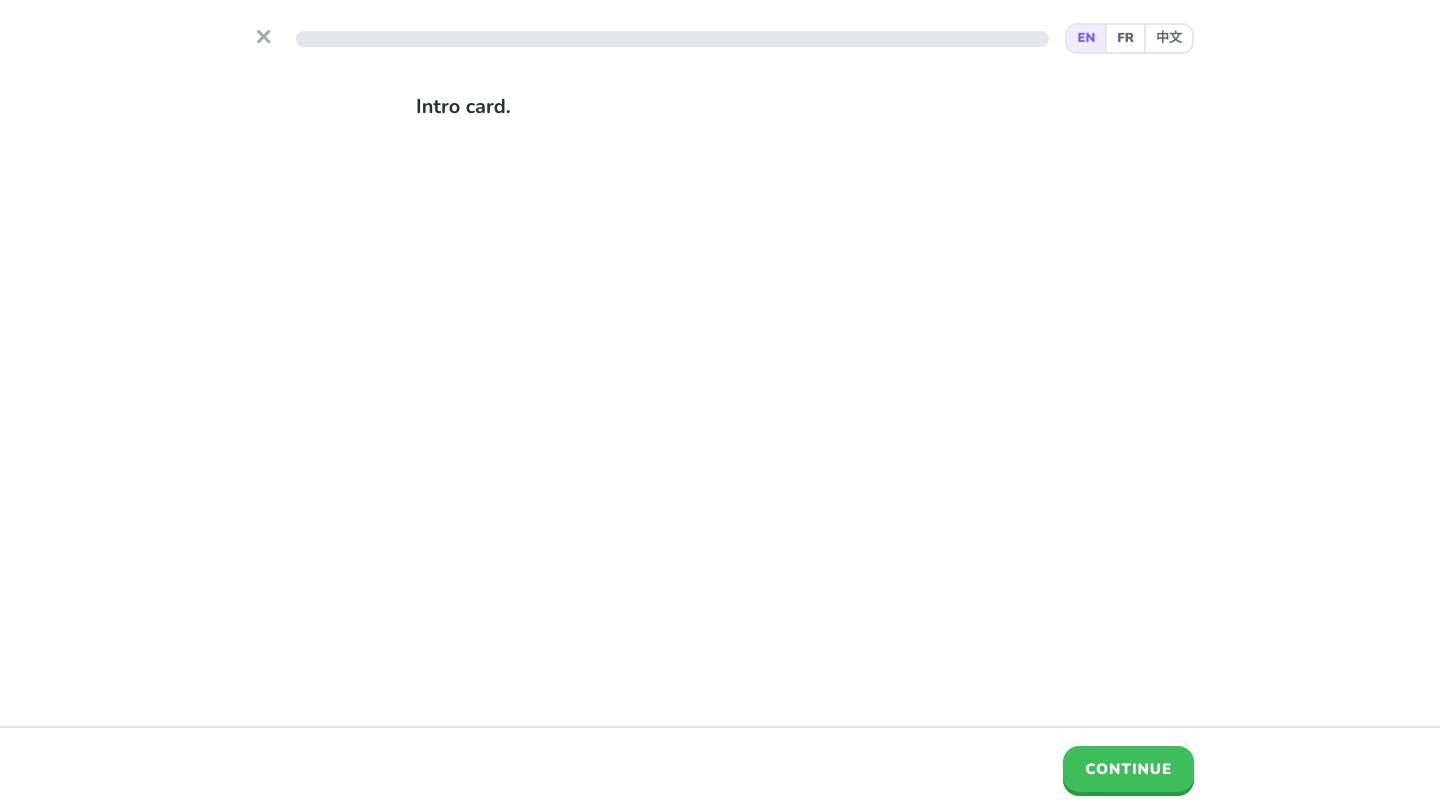
Test case: going back inside a lesson › an answered question is read-only on Back, with its explanation
What coordinates should you click on to do the following:
click the button "Continue"
I would click on:
 (1129, 769)
Its box is [1063,746,1194,792].
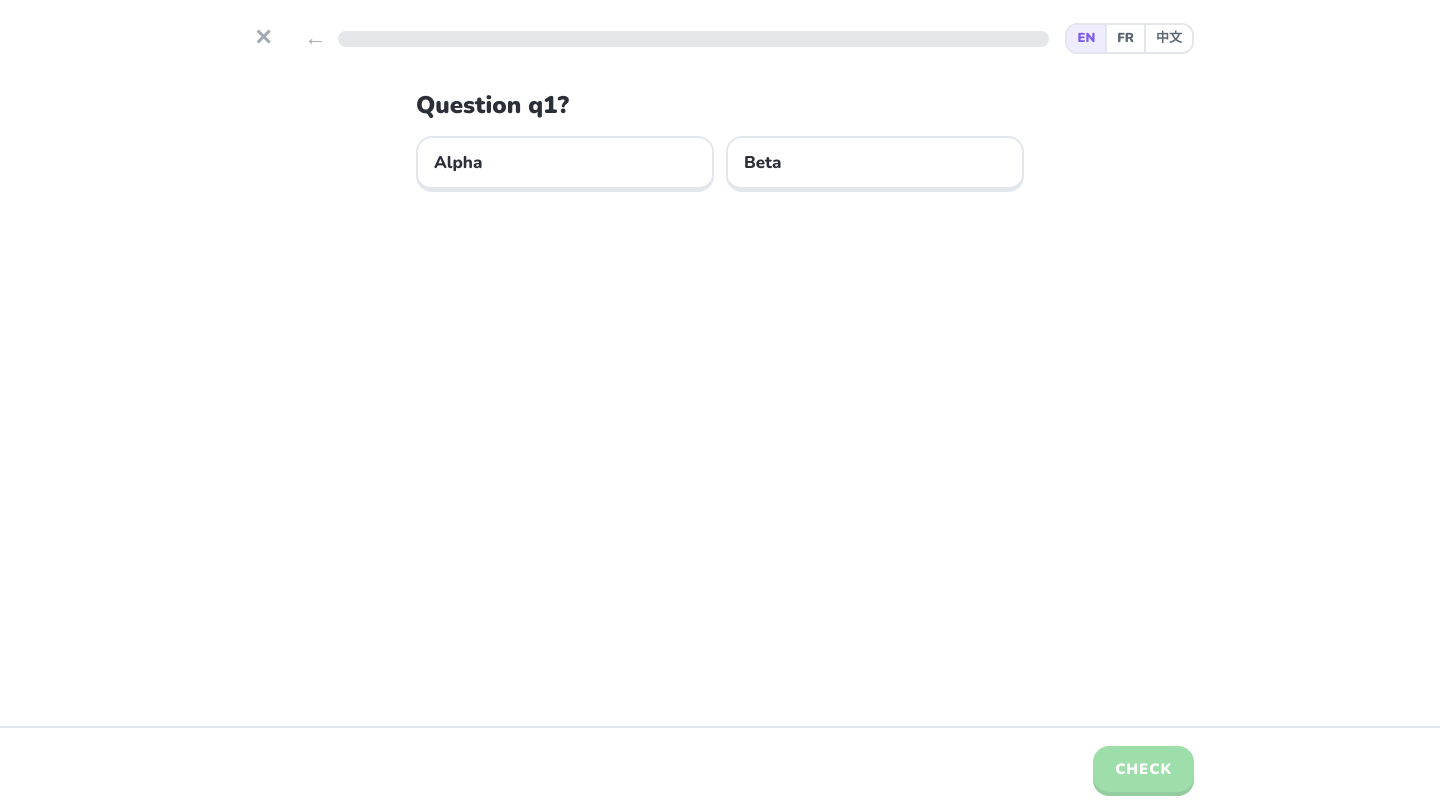
What coordinates should you click on to do the following:
click the button "Alpha"
I would click on:
 (458, 162)
Its box is [416,136,714,192].
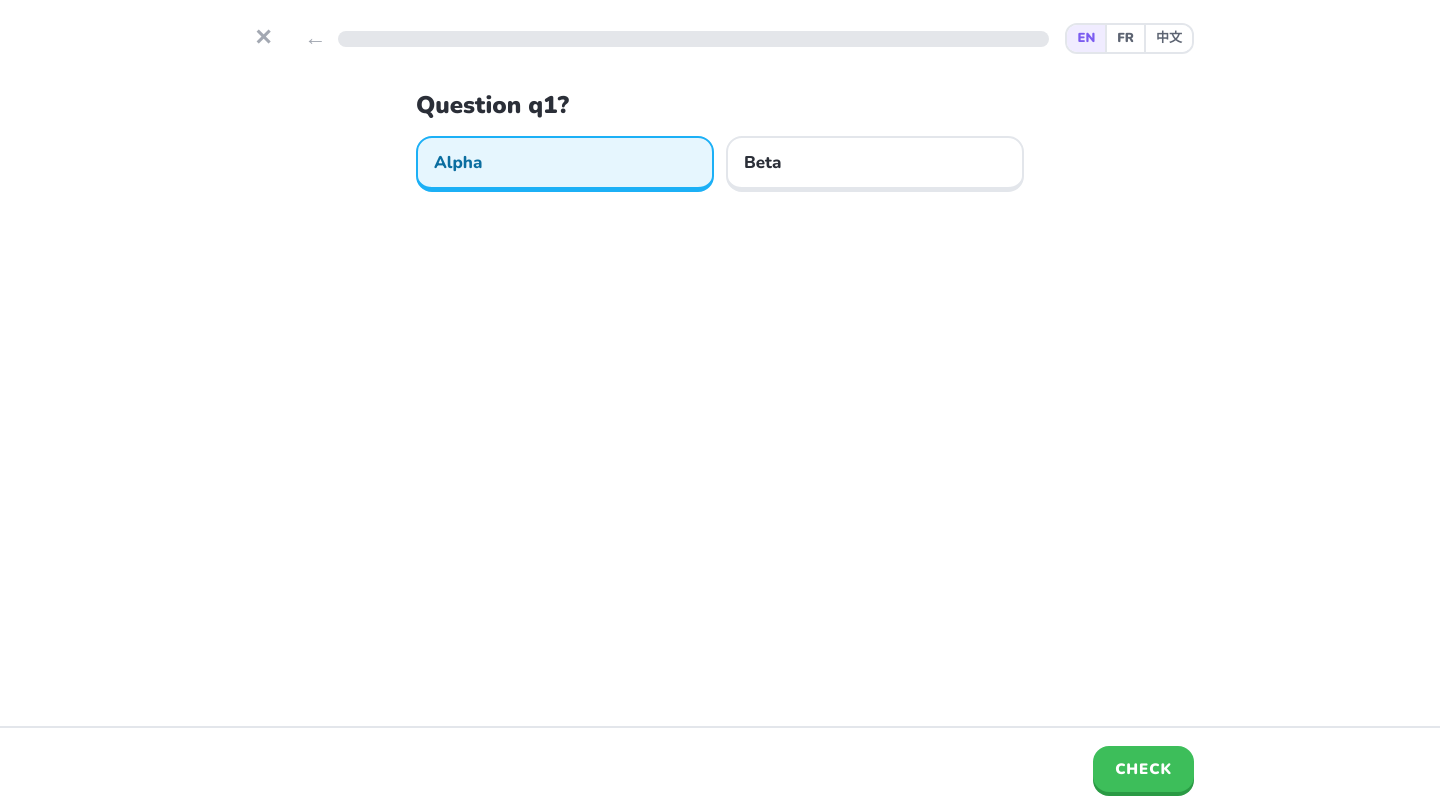
What coordinates should you click on to do the following:
click the button "Check"
I would click on:
 (1144, 769)
Its box is [1093,746,1194,792].
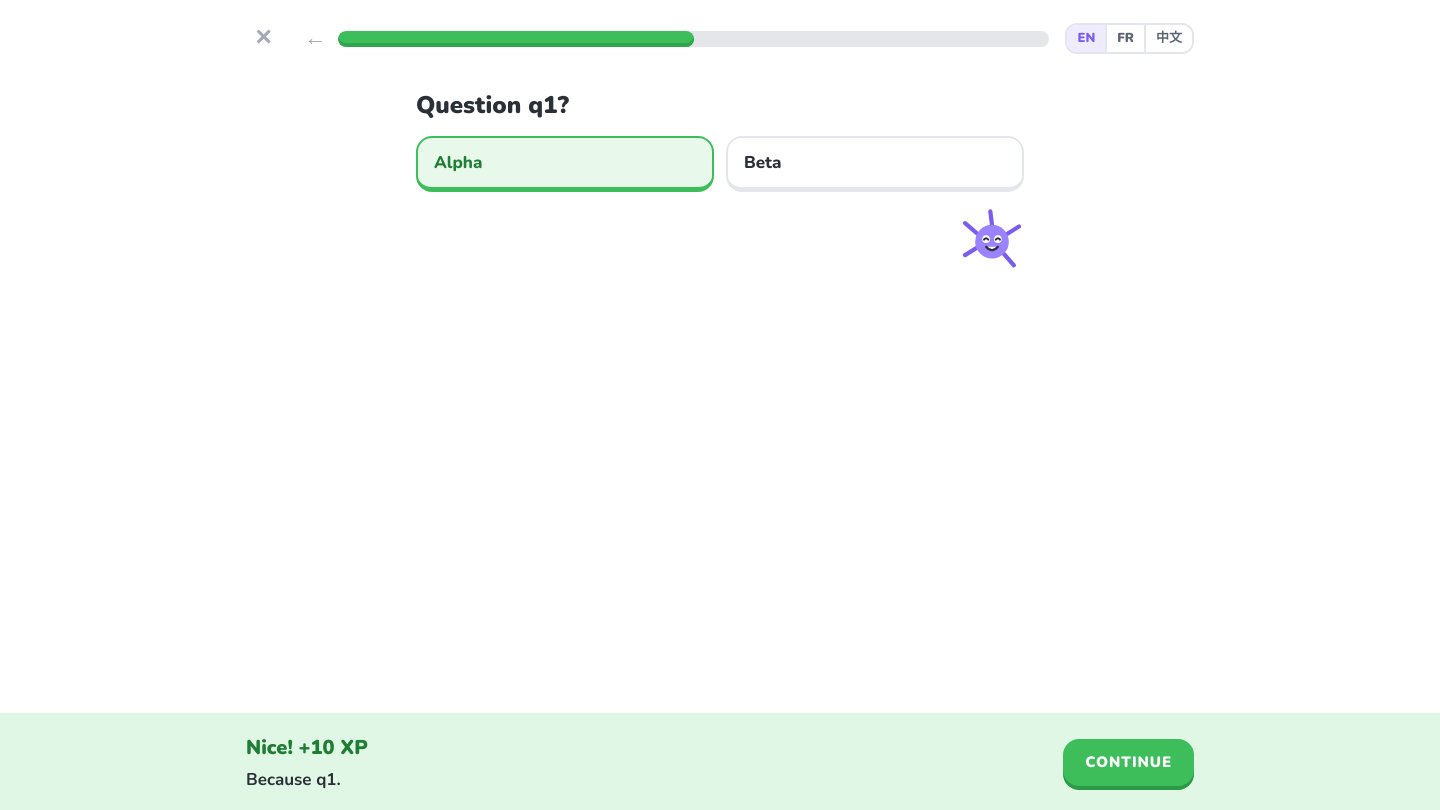
What coordinates should you click on to do the following:
click the button "Continue"
I would click on:
 (1129, 762)
Its box is [1063,739,1194,786].
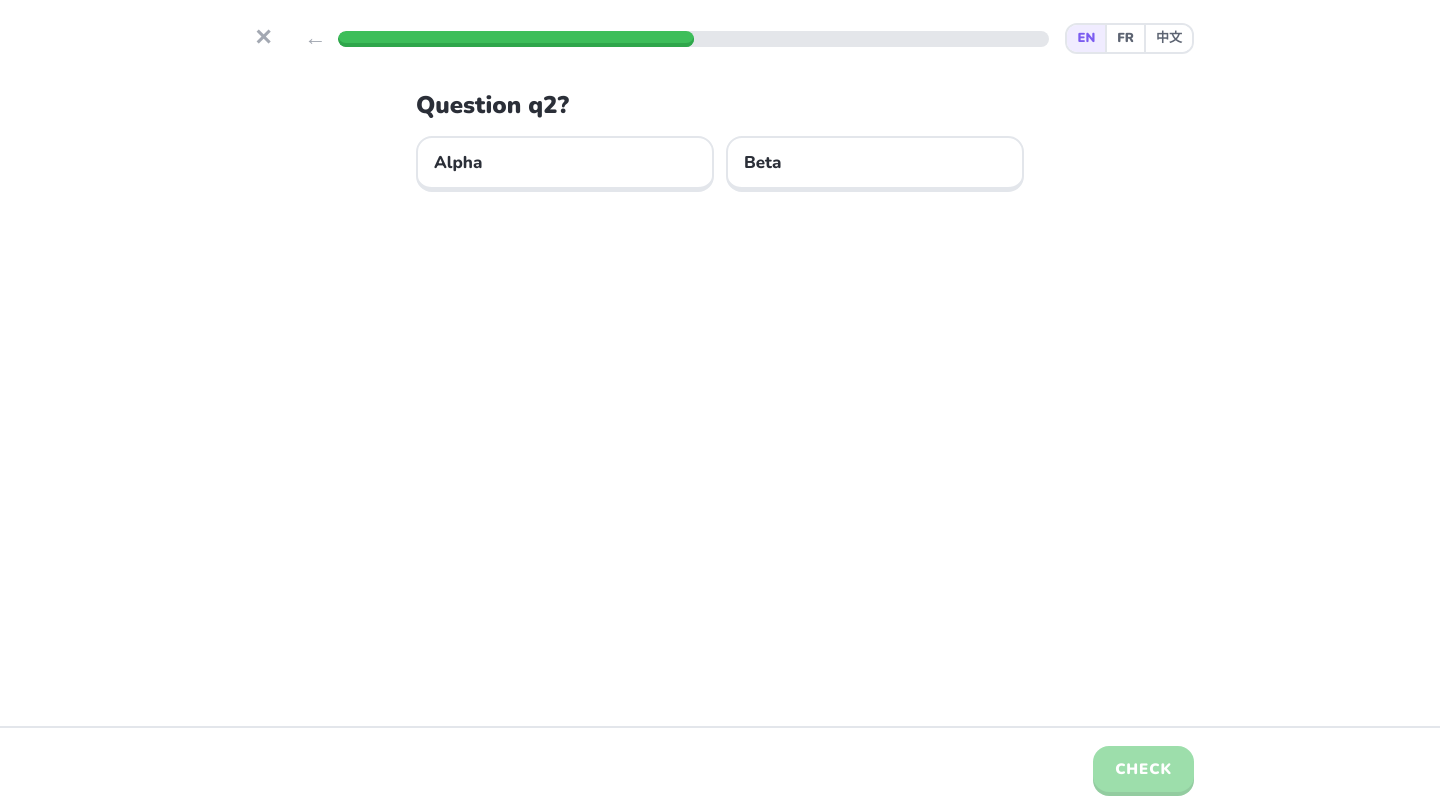
What coordinates should you click on to do the following:
click the button named "Go back"
I would click on:
 (315, 38)
Its box is [296,18,334,59].
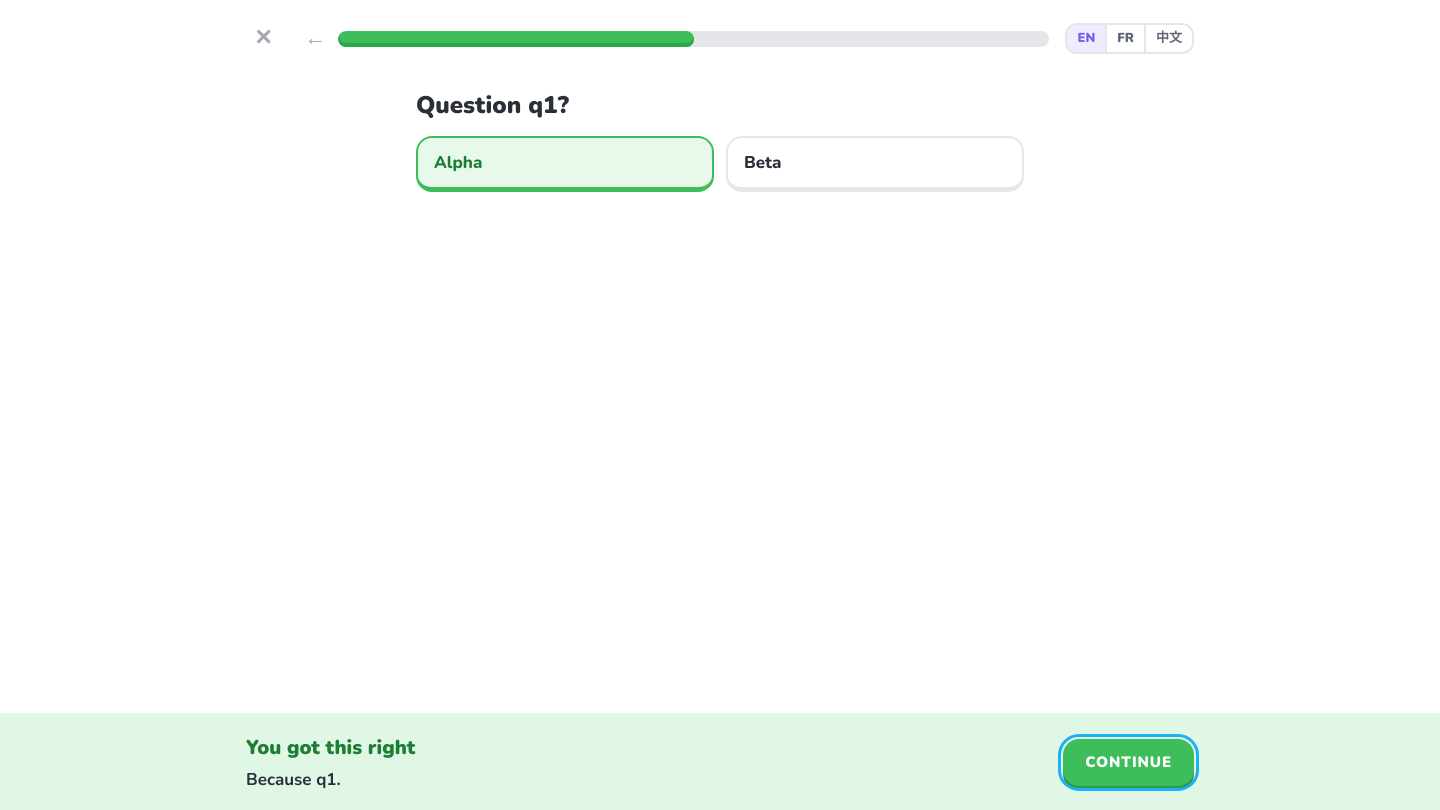
Expected: the heading "Question q1?" is shown, [416,89,569,121]
Expected: the button "Alpha" is disabled, [416,136,714,192]
Expected: the text "You got this right" is shown, [246,734,415,760]
